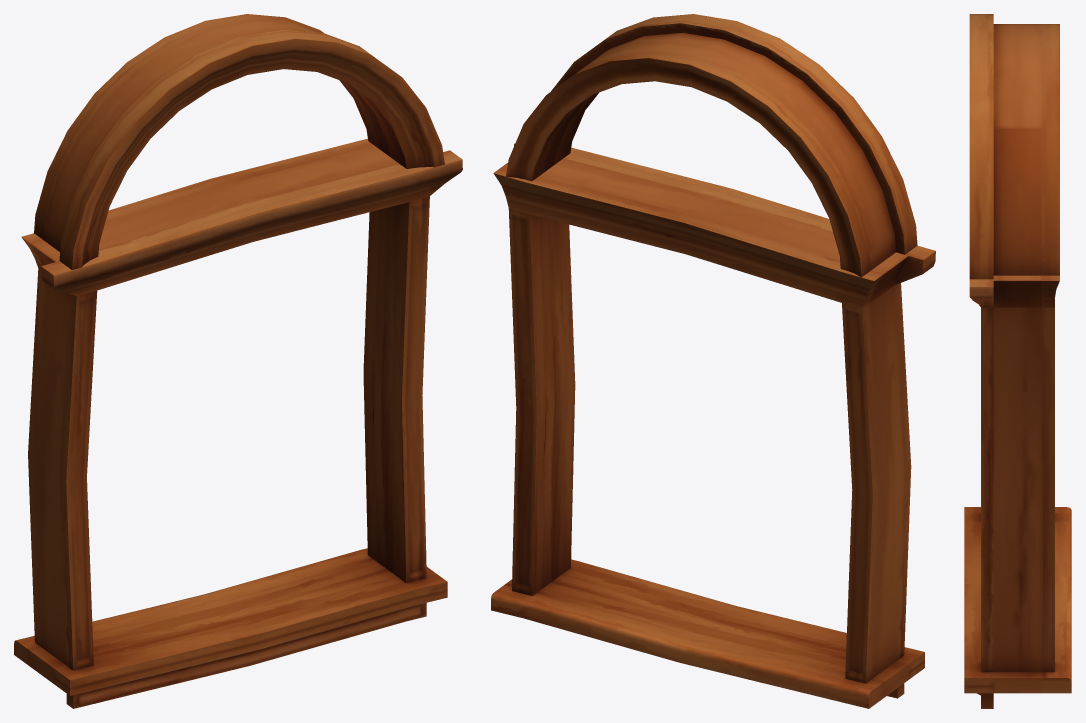
The model's file is PropWindow01TypeH_1_2.FBX.
3 views of the same model, side by side, from view 1: azimuth 30°, elevation 25°; view 2: azimuth 150°, elevation 25°; view 3: azimuth 270°, elevation 25° (orthographic). The views are drawn at different scales.
Parts seen in each view (by area): view 1: PropWindow01TypeH_1_2; view 2: PropWindow01TypeH_1_2; view 3: PropWindow01TypeH_1_2.
Part boxes in pixels (x1,y1,x2,y2): PropWindow01TypeH_1_2: (14,14,462,708); PropWindow01TypeH_1_2: (491,14,935,708); PropWindow01TypeH_1_2: (964,14,1071,708).
Size of what is drawn, in the model's own units: 1.88 by 2.74 by 0.4449.
